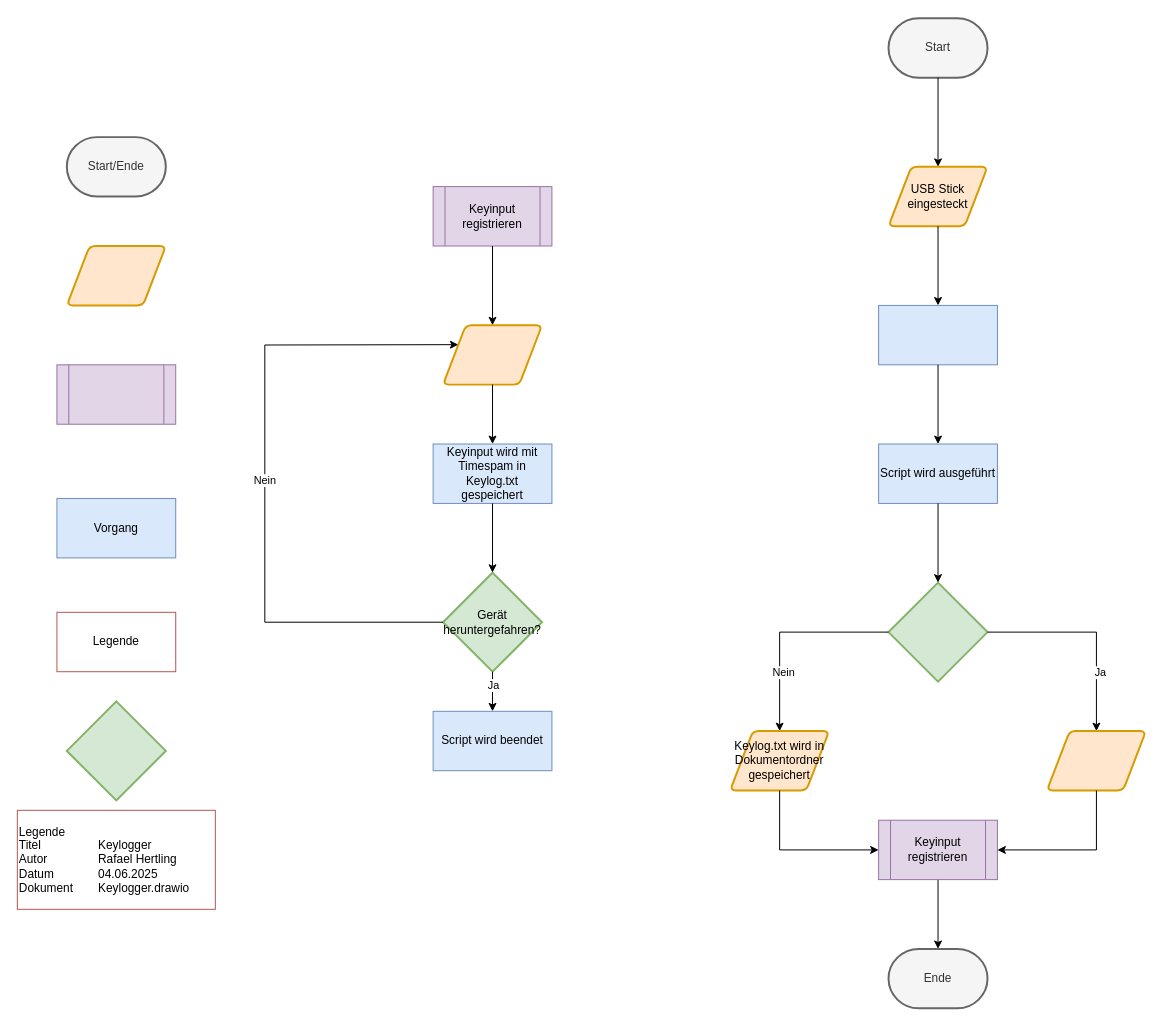
Image size: 1164x1026. Some labels were removed from this diagram. The centre of each missing label's shape, as x and y in pixels:
"Eingabe/Ausgabe" belongs at point (115, 275).
"Entscheid" belongs at point (115, 750).
"Gerät wird gestartet" belongs at point (937, 334).
"Keyinput" belongs at point (492, 354).
"Keylog.txt wird auf USB Stick gespeichert" belongs at point (1095, 760).
"Teilprozess" belongs at point (116, 394).
"USB Stick erkannt?" belongs at point (937, 631).
